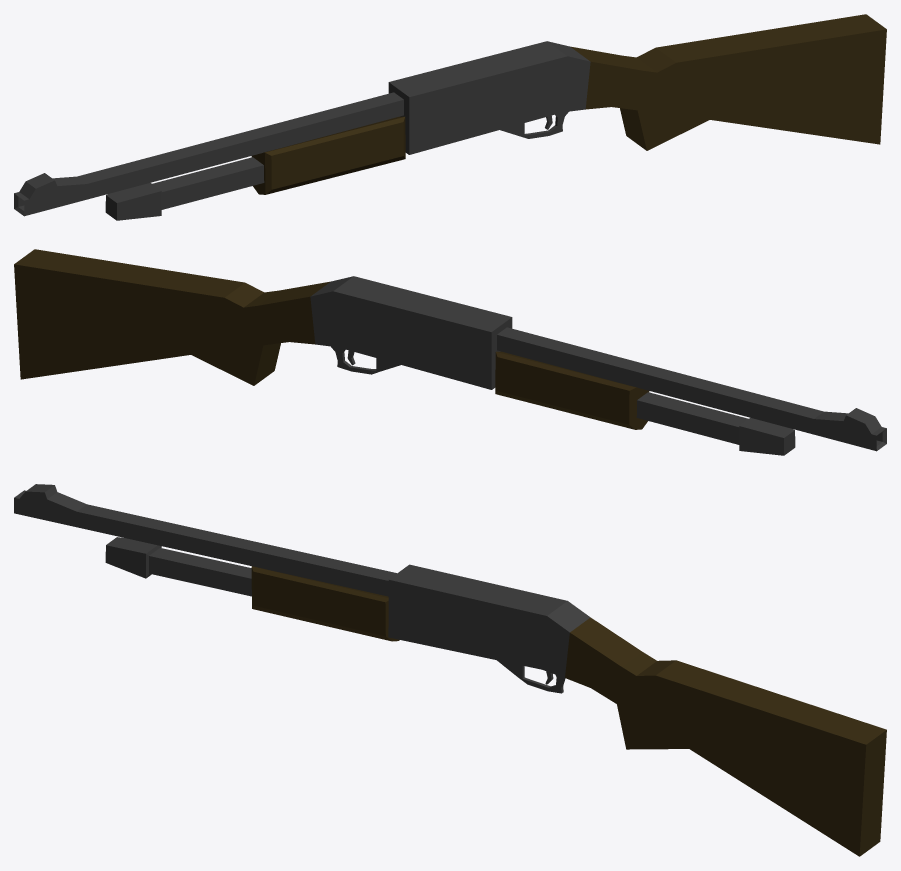
The model's file is newshotgun.glb.
The picture shows the model from 3 angles, top to bottom: view 1: azimuth 30°, elevation 25°; view 2: azimuth 150°, elevation 25°; view 3: azimuth 330°, elevation 25°; orthographic projection.
Visible parts, largest first — view 1: Body, Pump; view 2: Body, Pump; view 3: Body, Pump.
Part boxes in pixels (x1=…): Body: x1=14, y1=14, x2=886, y2=220; Pump: x1=251, y1=116, x2=405, y2=194; Body: x1=14, y1=249, x2=886, y2=455; Pump: x1=495, y1=351, x2=649, y2=429; Body: x1=14, y1=484, x2=886, y2=856; Pump: x1=251, y1=566, x2=399, y2=641.
Size of the model in its own units: 0.9 by 0.1651 by 0.0377.
